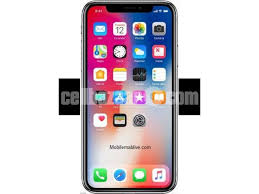iphone: (79, 1, 177, 194)
iphone10: (80, 1, 178, 193)
